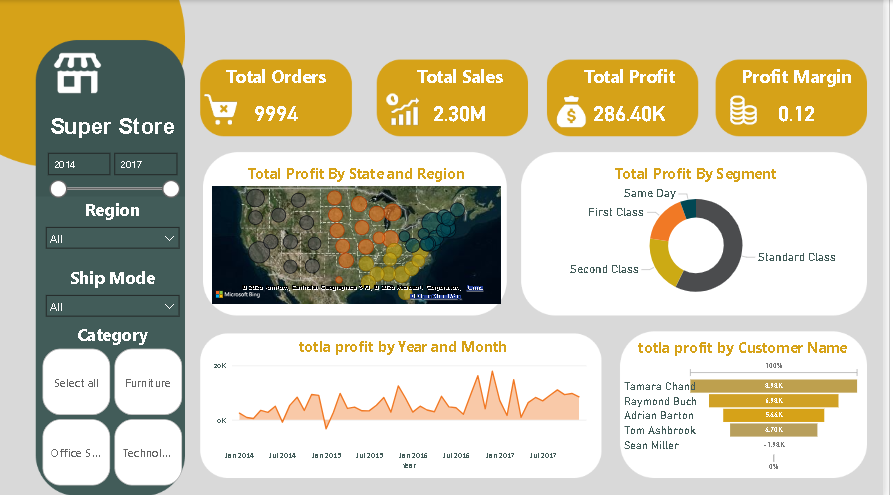

The page's visual inventory and layout, read from the dashboard file:
{"tool":"powerbi","page":{"name":"profit","canvas":[1280,720],"ordinal":1},"visuals":[{"type":"areaChart","fields":{"Y":["ALL Measures.totla profit"],"Category":["Orders.Order Date.Variation.Date Hierarchy.Year","Orders.Order Date.Variation.Date Hierarchy.Month"]},"box":[303.6,484.3,561,201],"z":0},{"type":"pieChart","title":"Total Profit By Segment","fields":{"Y":["ALL Measures.totla profit"],"Category":["Orders.Ship Mode"]},"box":[766.3,234.2,482.9,211.1],"z":1000},{"type":"map","title":"Total Profit By State and Region","fields":{"Size":["ALL Measures.totla profit"],"Category":["Orders.State"],"Series":["Orders.Region"]},"box":[313.7,234.2,409.2,211.1],"z":2000},{"type":"card","title":"Total Sales","fields":{"Values":["ALL Measures.total sales"]},"box":[565.3,92.5,201,104.1],"z":3000},{"type":"card","title":"Total Profit","fields":{"Values":["ALL Measures.totla profit"]},"box":[819.8,92.5,183.6,104.1],"z":4000},{"type":"card","title":"Profit Margin","fields":{"Values":["ALL Measures.profit margin"]},"box":[1045.3,92.5,215.4,104.1],"z":5000},{"type":"funnel","fields":{"Category":["Orders.Customer Name"],"Y":["ALL Measures.totla profit"]},"box":[899.3,485.8,351.3,199.5],"z":6000},{"type":"card","title":"Total Orders","fields":{"Values":["ALL Measures.total orders"]},"box":[303.6,92.5,193.7,104.1],"z":8000},{"type":"advancedSlicerVisual","title":"Category","fields":{"Values":["Orders.Category"]},"box":[57.8,467,212.5,240],"z":9000},{"type":"slicer","title":"Region","fields":{"Values":["Orders.Region"]},"box":[57.8,286.3,212.5,83.9],"z":10000},{"type":"slicer","title":"Ship Mode","fields":{"Values":["Orders.Ship Mode"]},"box":[57.8,384.6,212.5,82.4],"z":11000},{"type":"textbox","box":[57.8,159,212.5,50.6],"z":11001},{"type":"slicer","fields":{"Values":["Orders.Order Date.Variation.Date Hierarchy.Year"]},"box":[57.8,211.1,212.5,75.2],"z":11002}]}

Visuals, with their boxes in screenshot pixels (x1, y1, x2, y2), scaled from the page's 1280x720 canvas onto the 893x495 screenshot:
areaChart - ALL Measures.totla profit x Orders.Order Date.Variation.Date Hierarchy.Year: l=212, t=333, r=603, b=471
"Total Profit By Segment" pieChart: l=535, t=161, r=872, b=306
"Total Profit By State and Region" map: l=219, t=161, r=504, b=306
"Total Sales" card: l=394, t=64, r=535, b=135
"Total Profit" card: l=572, t=64, r=700, b=135
"Profit Margin" card: l=729, t=64, r=880, b=135
funnel - Orders.Customer Name x ALL Measures.totla profit: l=627, t=334, r=872, b=471
"Total Orders" card: l=212, t=64, r=347, b=135
"Category" advancedSlicerVisual: l=40, t=321, r=189, b=486
"Region" slicer: l=40, t=197, r=189, b=255
"Ship Mode" slicer: l=40, t=264, r=189, b=321
textbox: l=40, t=109, r=189, b=144
slicer - Orders.Order Date.Variation.Date Hierarchy.Year: l=40, t=145, r=189, b=197
